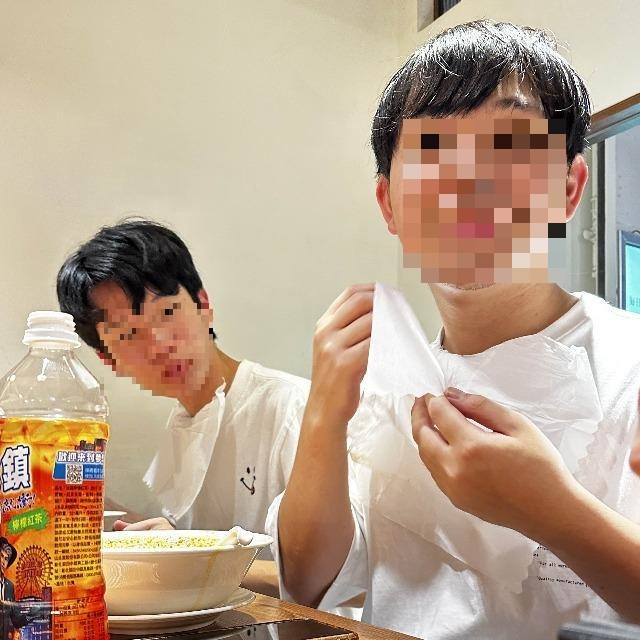NoHelmet: (368, 21, 596, 297), (57, 216, 222, 398)
